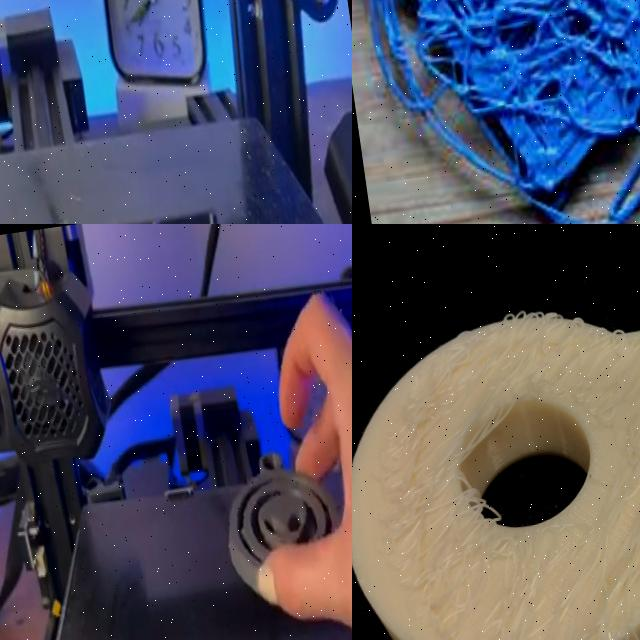spaghetti: (352, 256, 640, 640), (352, 0, 640, 224)
